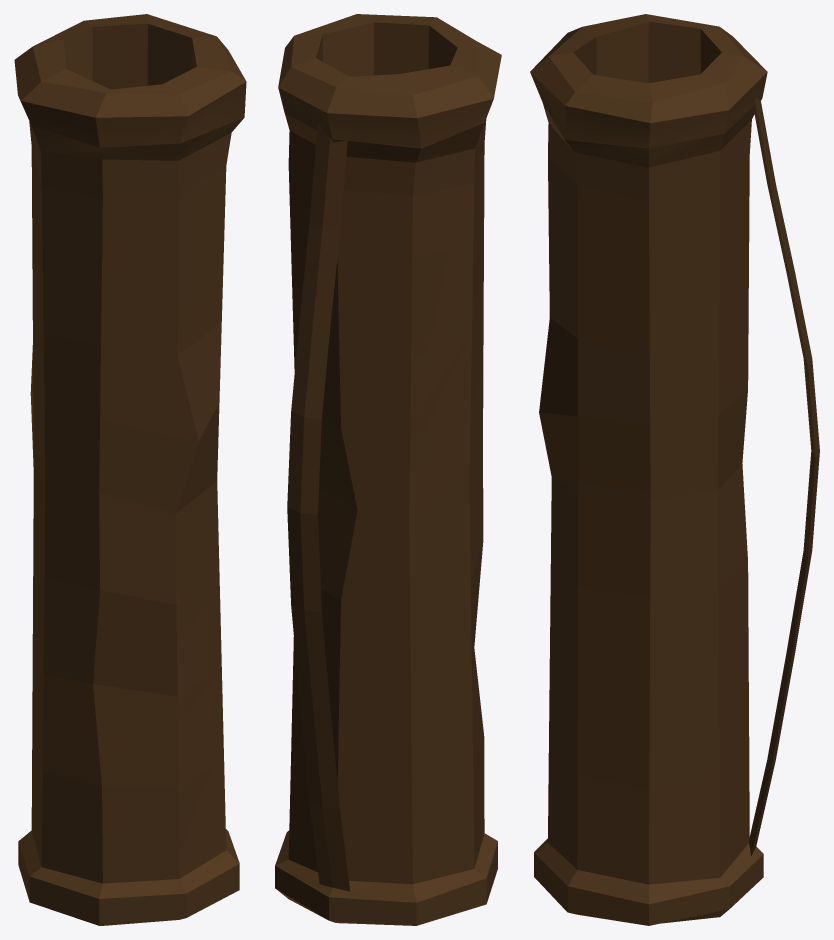
The model's file is quiver.fbx.
3 views of the same model, side by side, from view 1: azimuth 30°, elevation 25°; view 2: azimuth 150°, elevation 25°; view 3: azimuth 270°, elevation 25° (orthographic).
Parts seen in each view (by area): view 1: quiver; view 2: quiver; view 3: quiver.
Boxes of the visible parts, bbox=[...] form: quiver: bbox=[14, 14, 246, 925]; quiver: bbox=[275, 14, 501, 925]; quiver: bbox=[530, 14, 819, 925].
Size of the model in its own units: 24.34 by 93.84 by 29.39.
